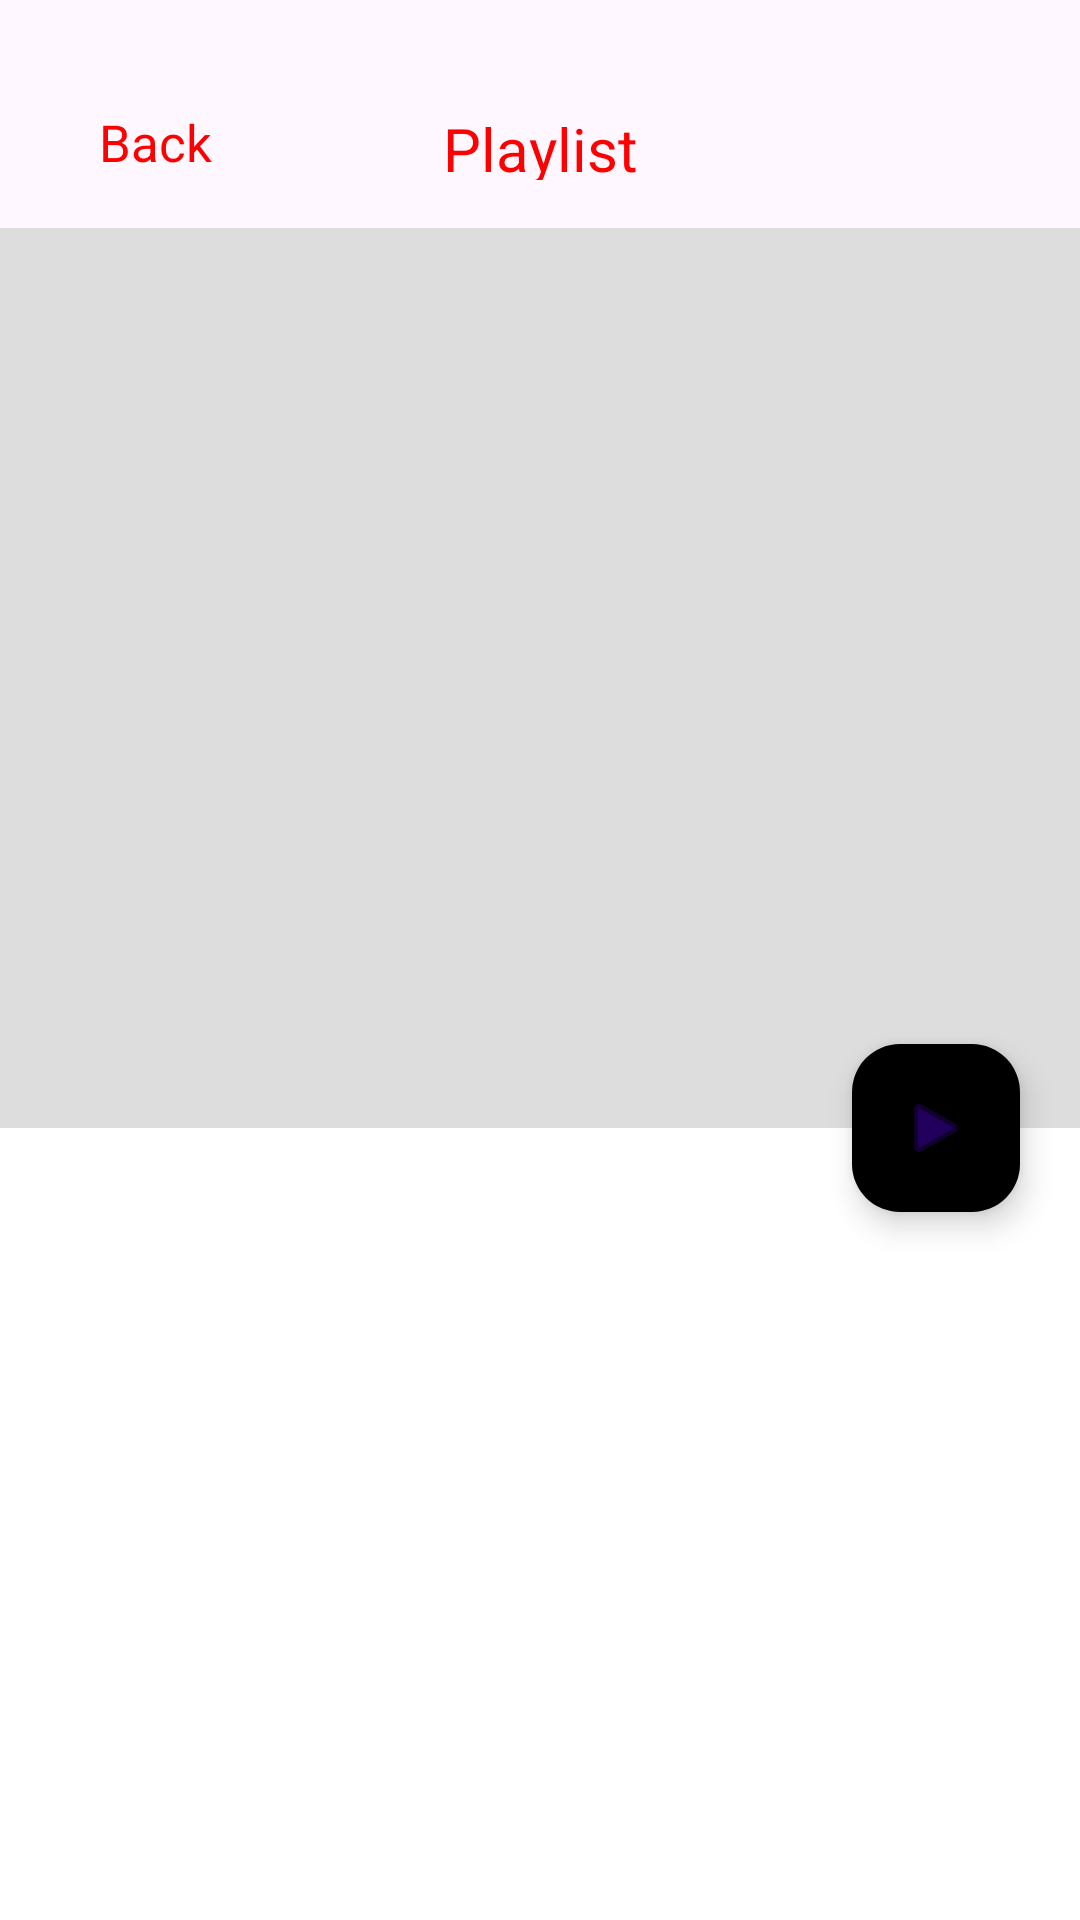

Point at icon controls on the screen. Image size 1080x1920, points as point (x, y).
play: point (936, 1128)
